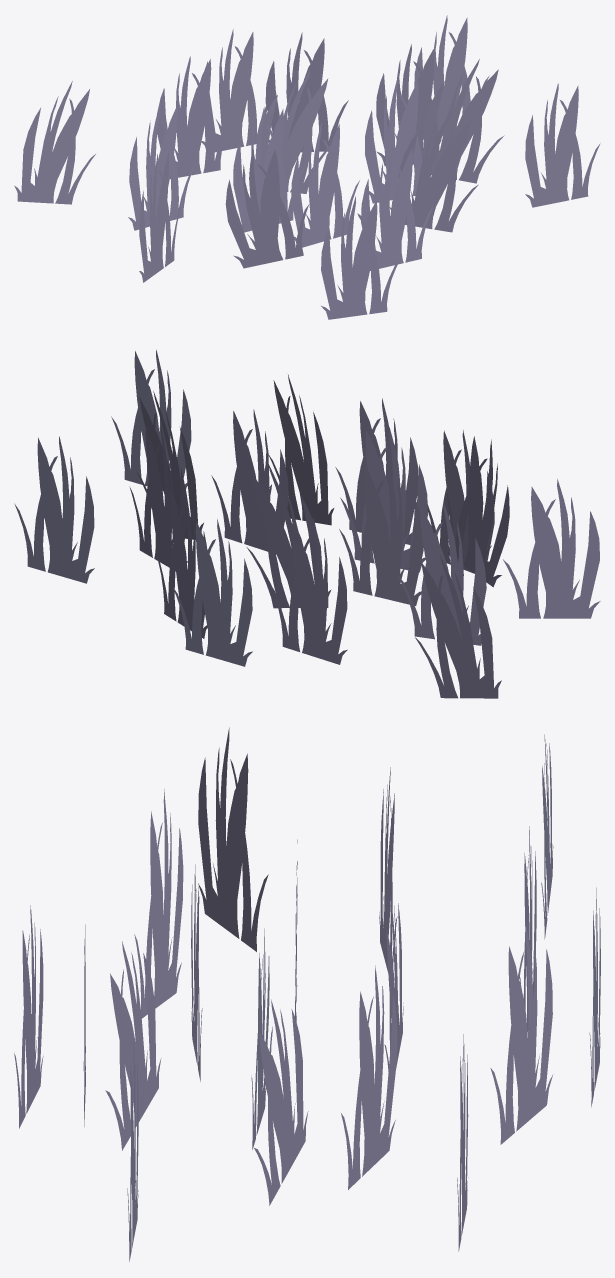
The model's file is grass2.fbx.
3 views of the same model, one above another, from view 1: azimuth 30°, elevation 25°; view 2: azimuth 150°, elevation 25°; view 3: azimuth 270°, elevation 25° (orthographic). The views are drawn at different scales.
Parts seen in each view (by area): view 1: Grass2; view 2: Grass2; view 3: Grass2.
Boxes of the visible parts, box(x1,y1,x2,y2) form: Grass2: box(14, 15, 600, 319); Grass2: box(14, 349, 600, 698); Grass2: box(14, 727, 600, 1261).
Bounding box in the file's own units: 2.7 × 0.9031 × 1.75.
